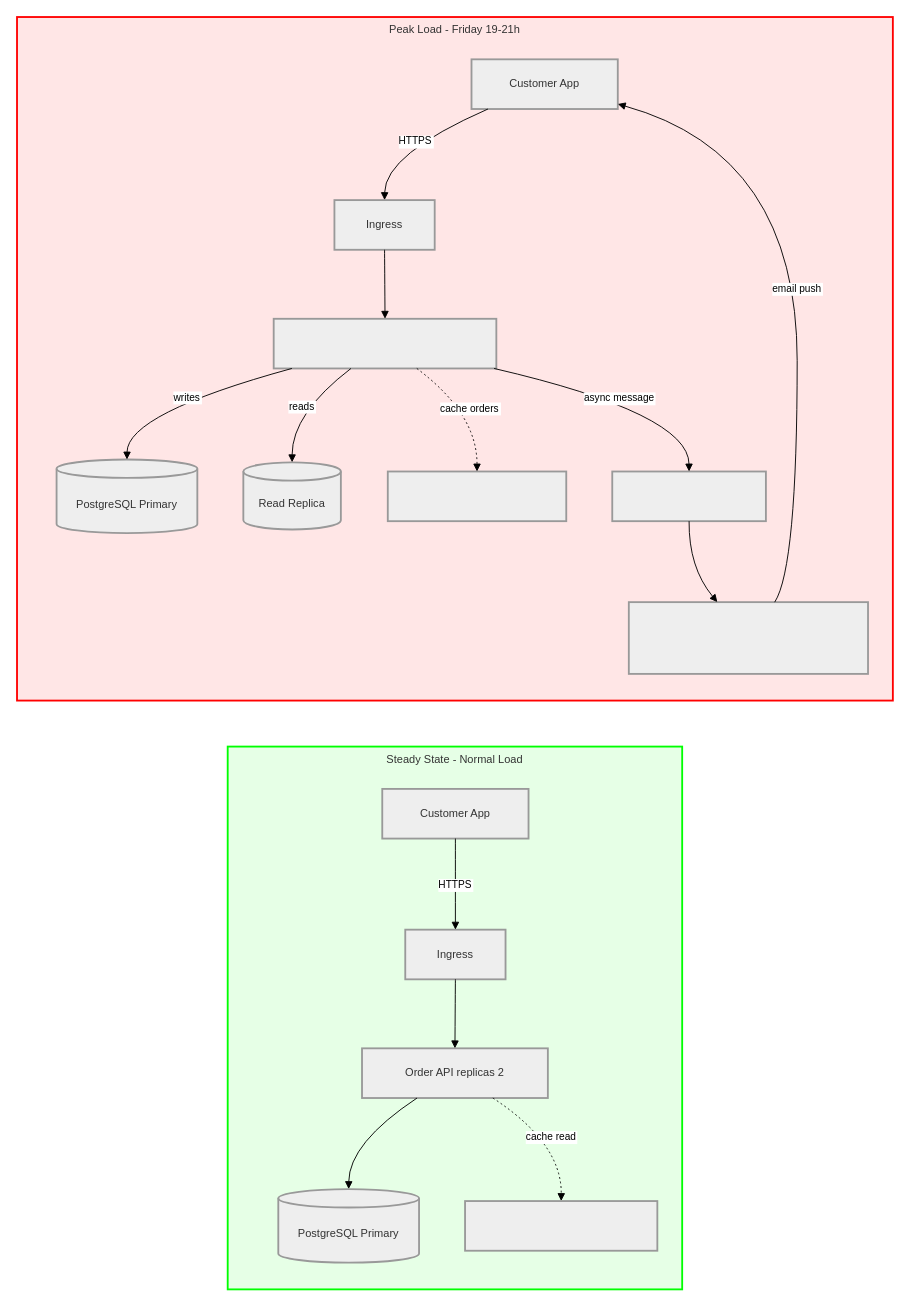
Image size: 909x1305. Some labels were removed from this diagram. Here are the shapes that lost their labels. From the top down, the centre of each, then its label:
(384,343): Order API replicas 10 HPA
(476,496): Redis Cache active
(688,496): Job Queue SQS
(747,637): Notification Worker replicas 5
(561,1225): Redis Cache optional
